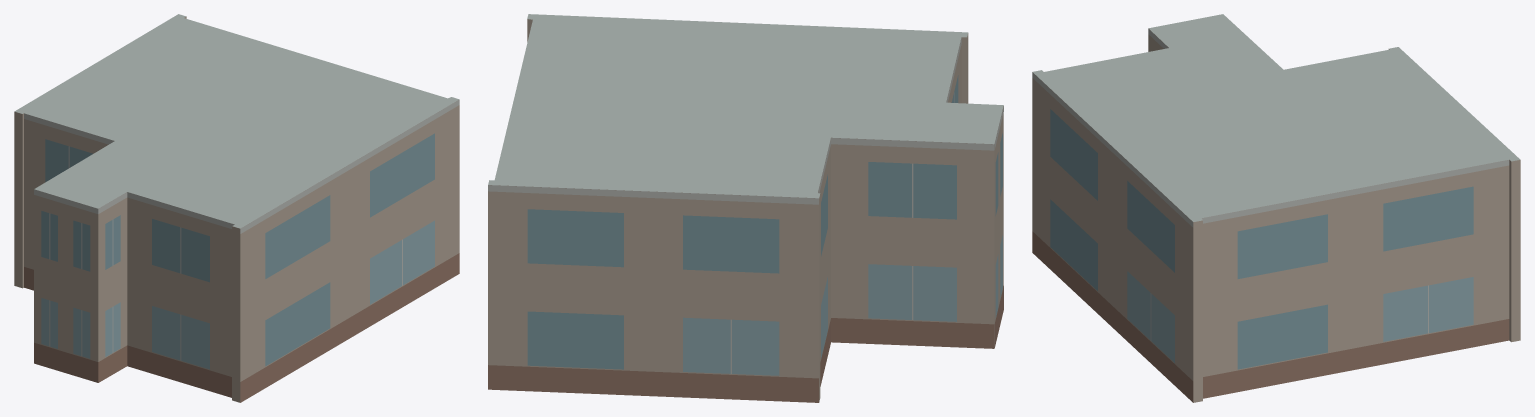
Rendered from survey-upis-32838514.glb.
3 views of the same model, side by side, from view 1: azimuth 30°, elevation 25°; view 2: azimuth 150°, elevation 25°; view 3: azimuth 270°, elevation 25° (orthographic). The views are drawn at different scales.
Parts seen in each view (by area): view 1: survey-upis-32838514.tmp; view 2: survey-upis-32838514.tmp; view 3: survey-upis-32838514.tmp.
Boxes of the visible parts, x1,y1,x2,y2 form: survey-upis-32838514.tmp: (14,14,459,402); survey-upis-32838514.tmp: (488,14,1003,402); survey-upis-32838514.tmp: (1032,14,1520,402).
Bounding box in the file's own units: 19.03 × 7.7 × 18.86.
